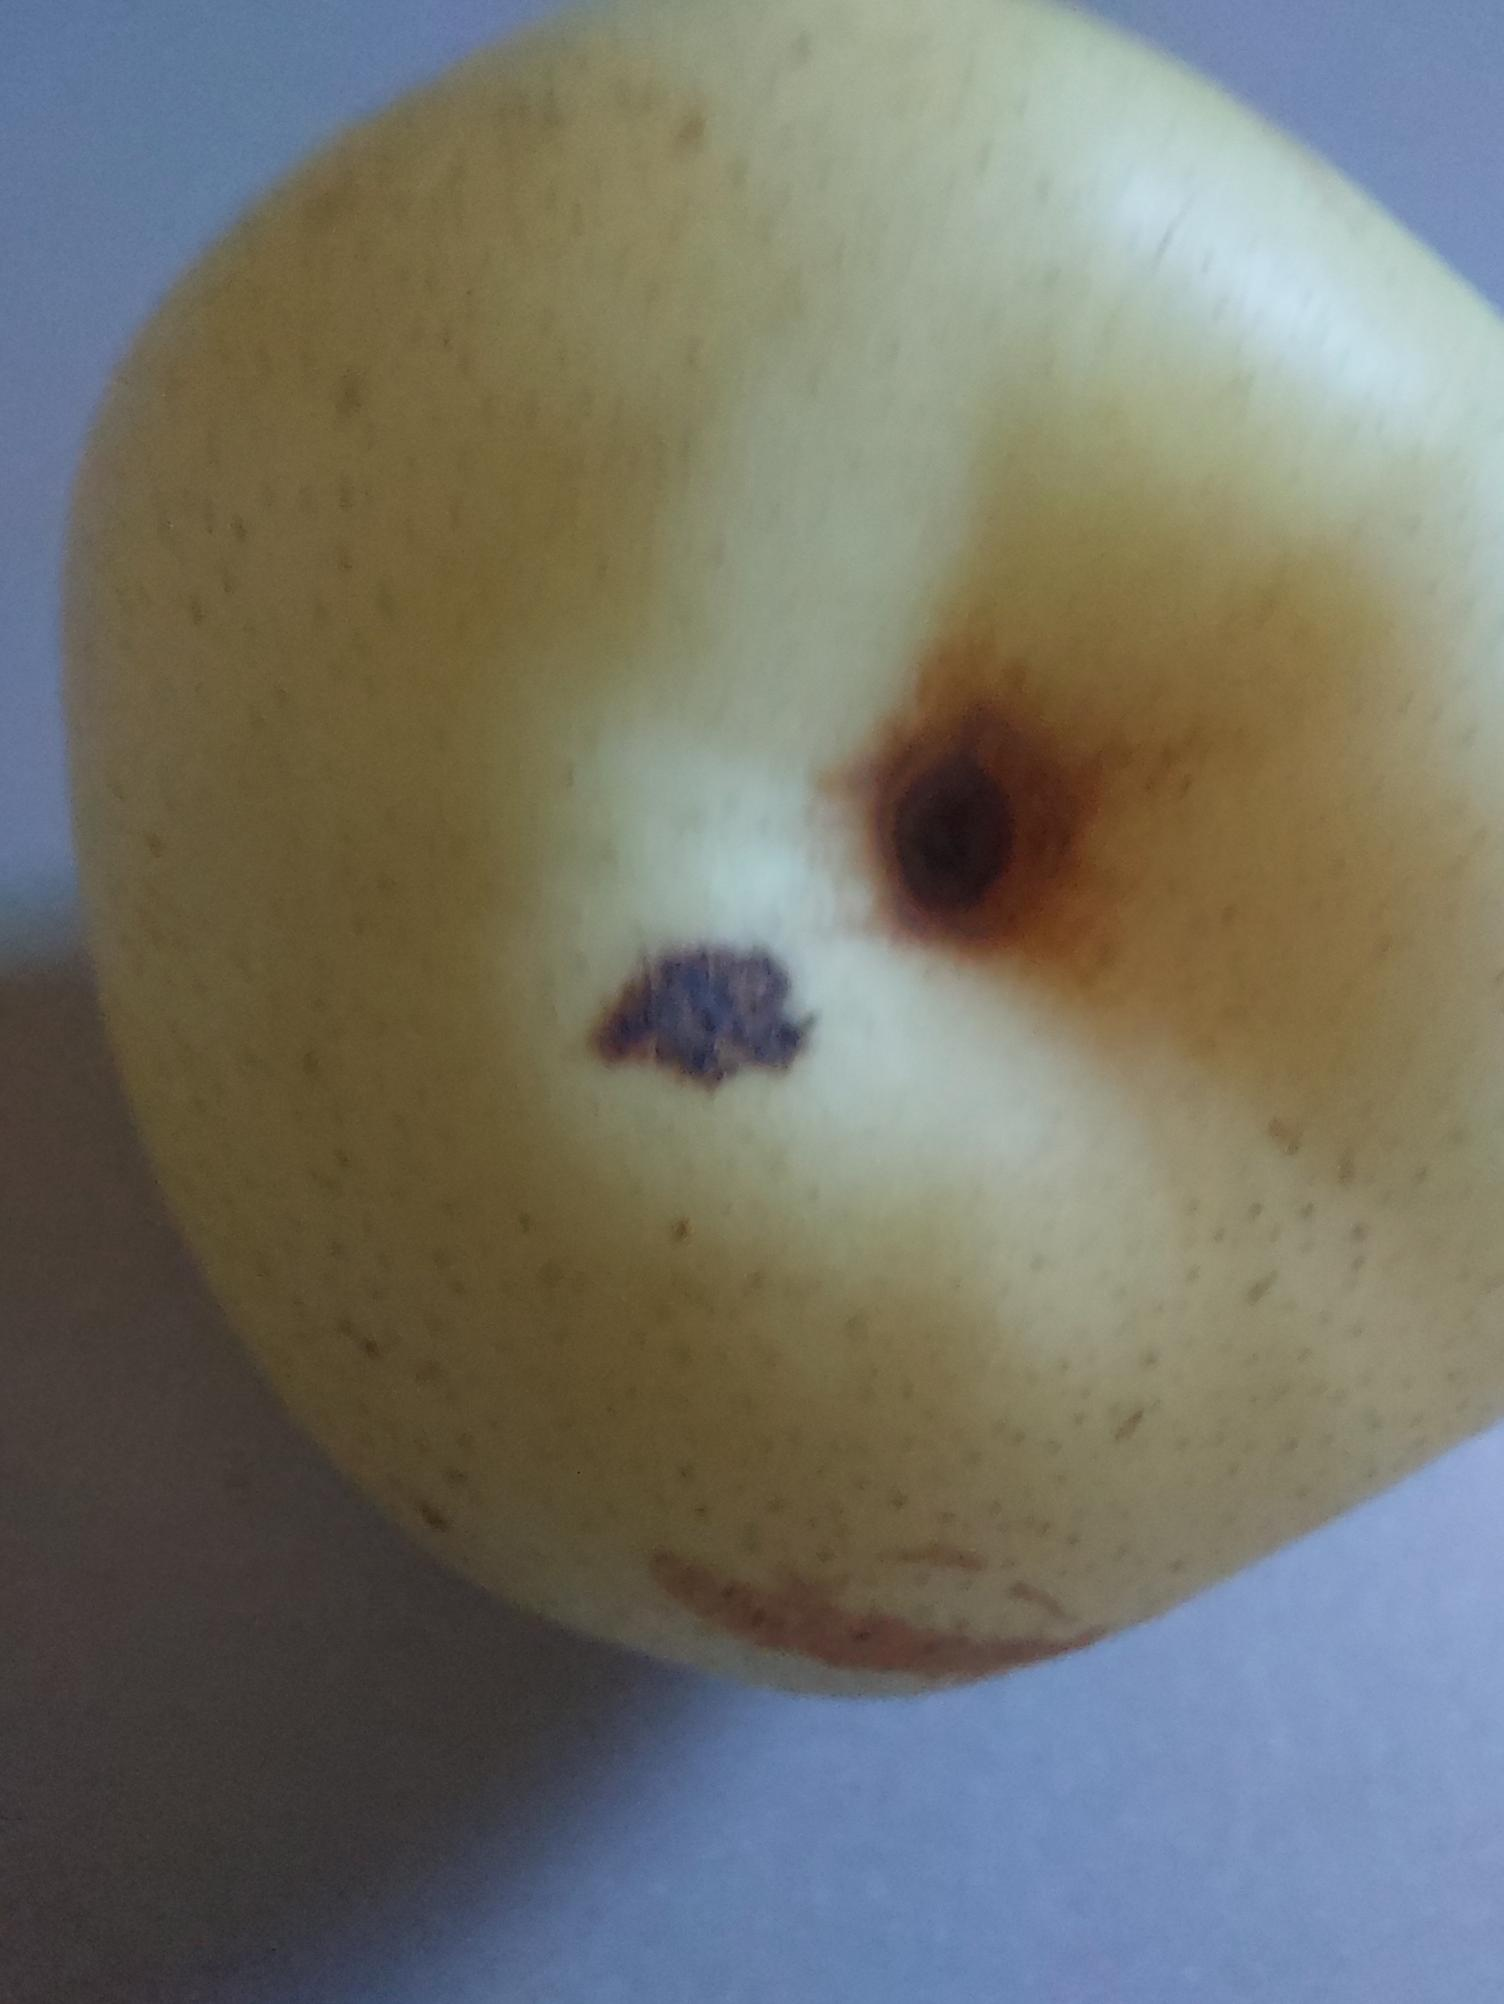Good Pear: (65, 0, 1504, 1736)
